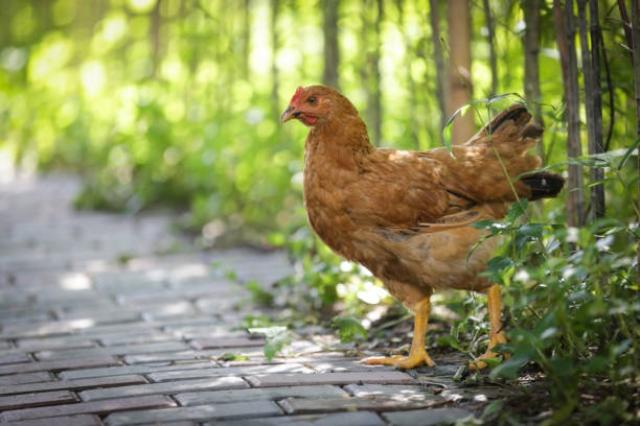Chicken: (281, 84, 564, 370)
